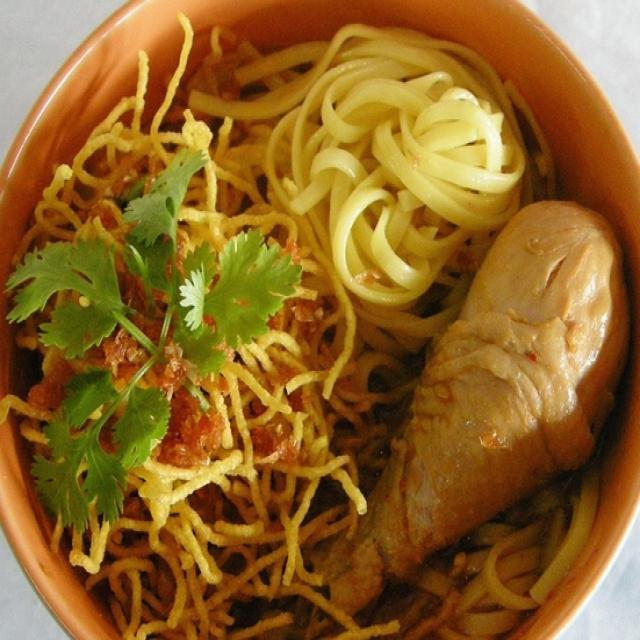面条主食: (21, 26, 602, 620)
